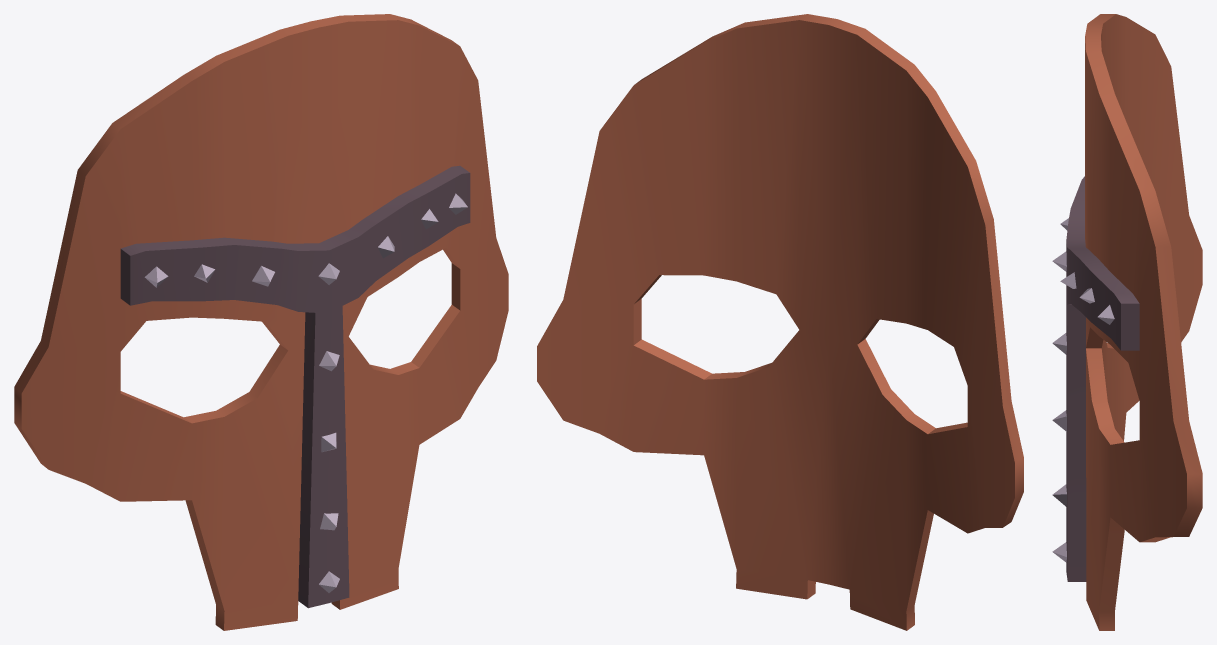
File: Mask_07_01.fbx
The picture shows the model from 3 angles, left to right: view 1: azimuth 30°, elevation 25°; view 2: azimuth 150°, elevation 25°; view 3: azimuth 270°, elevation 25°; orthographic projection. The views are drawn at different scales.
Parts seen in each view (by area): view 1: Mask_07_01; view 2: Mask_07_01; view 3: Mask_07_01.
Boxes of the visible parts, bbox=[...] form: Mask_07_01: bbox=[14, 14, 508, 630]; Mask_07_01: bbox=[537, 14, 1023, 630]; Mask_07_01: bbox=[1052, 14, 1202, 630].
Bounding box in the file's own units: 28.77 × 33.21 × 8.17.
